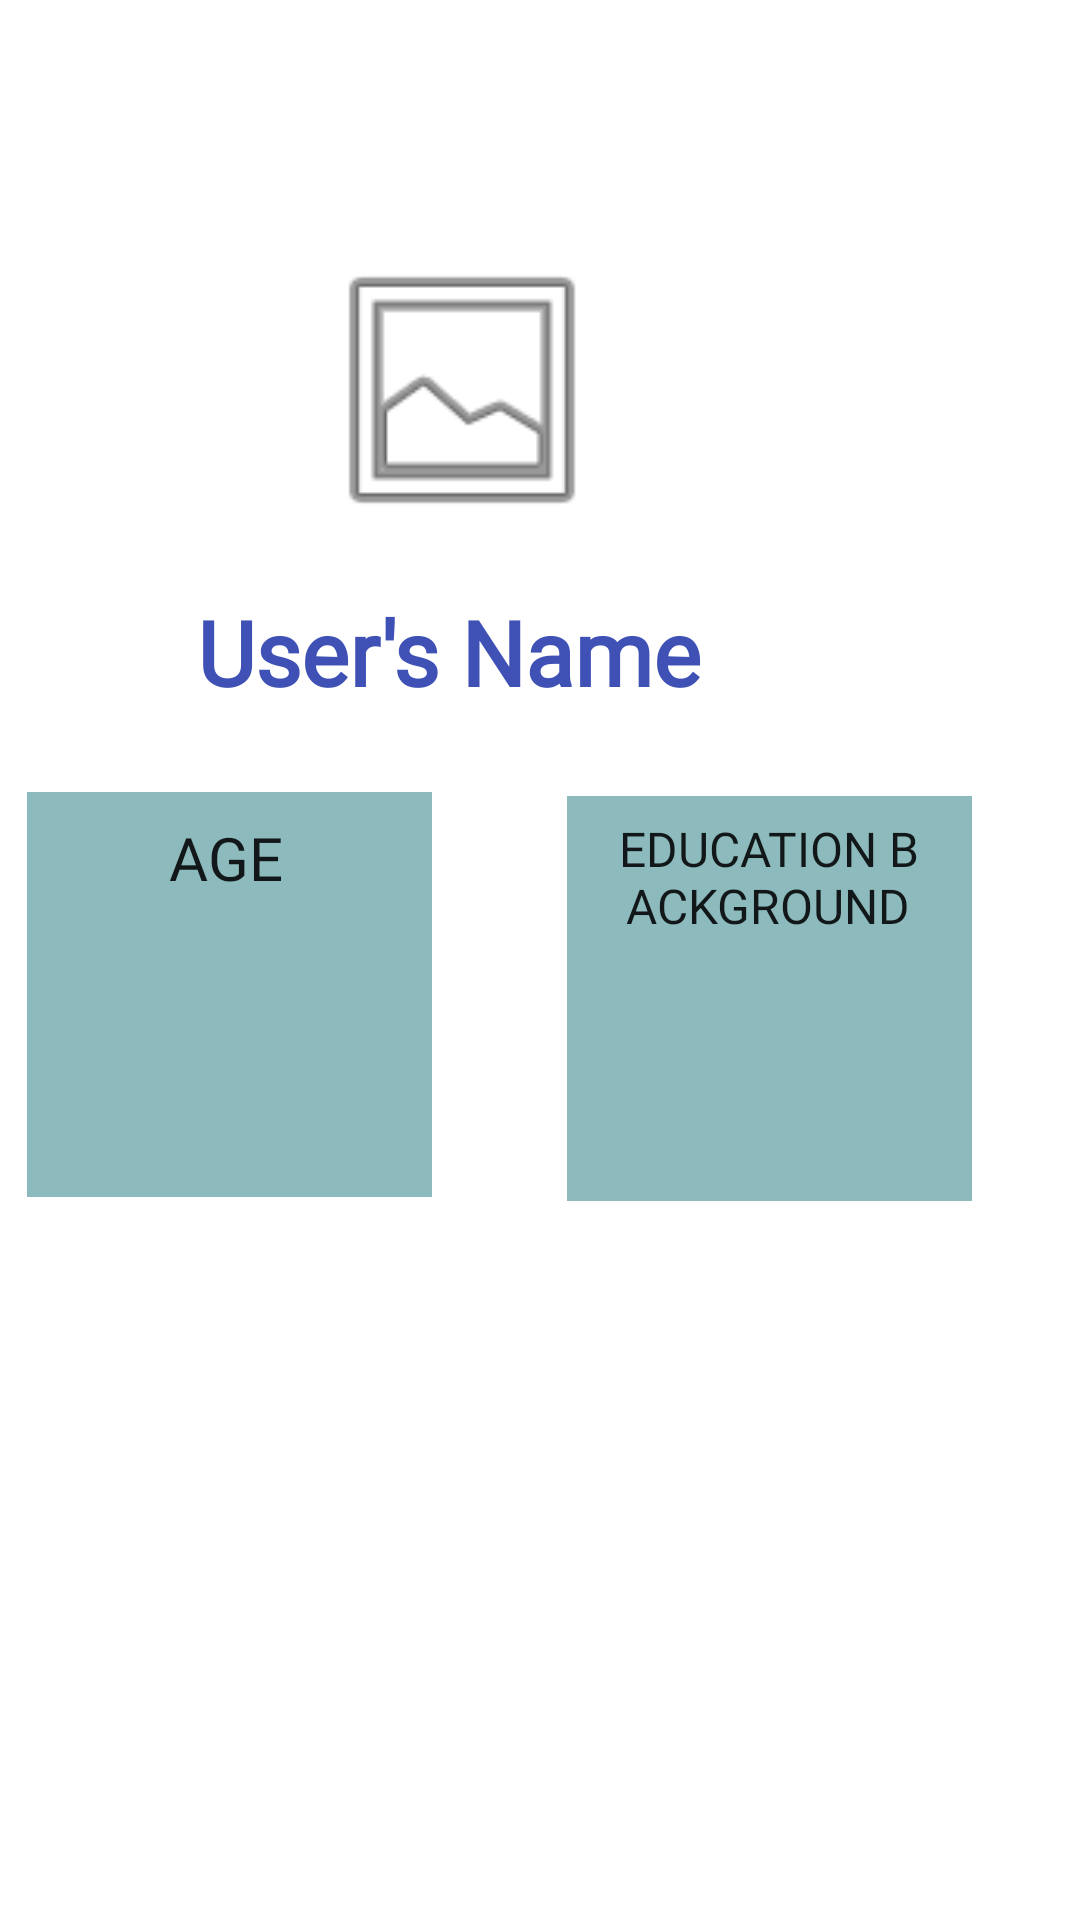

Icon click points for this 1080 x 1920 phone screenshot, format [x,y]:
gallery: [462,390]
